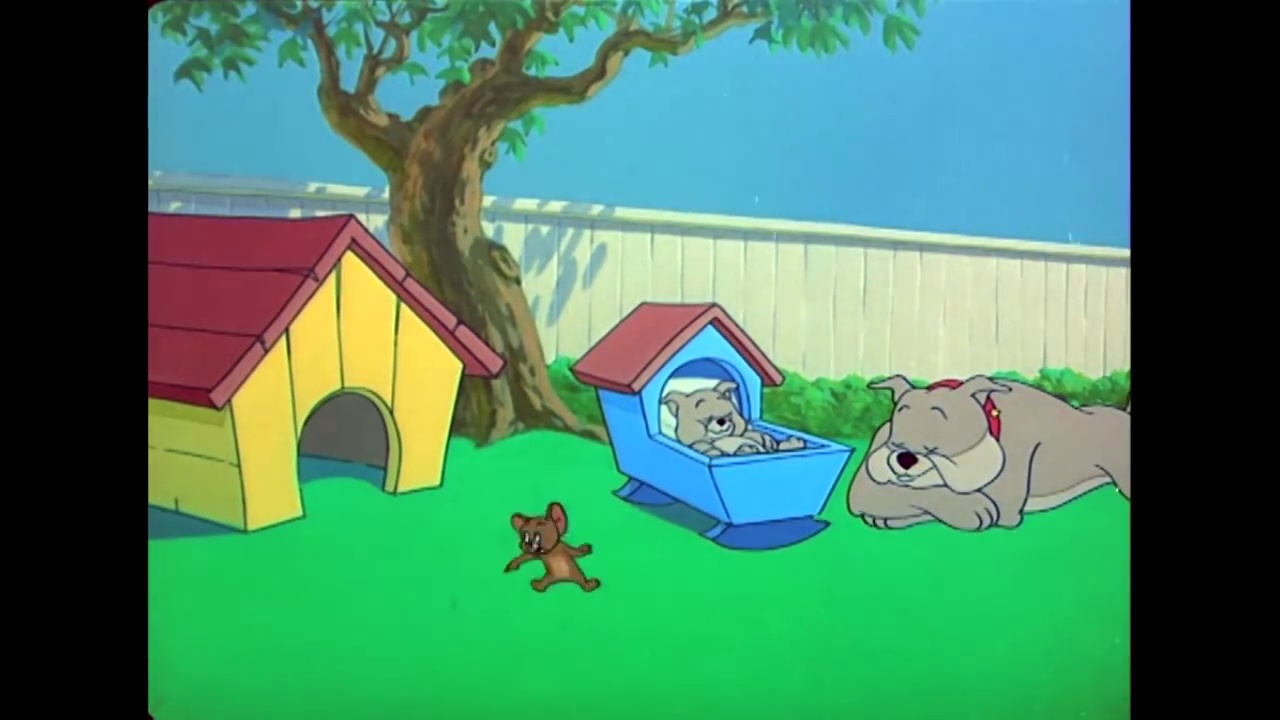spike: (866, 370, 1017, 495)
